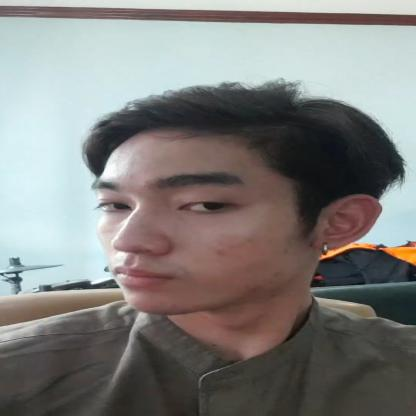Palm: (31, 80, 415, 322)
